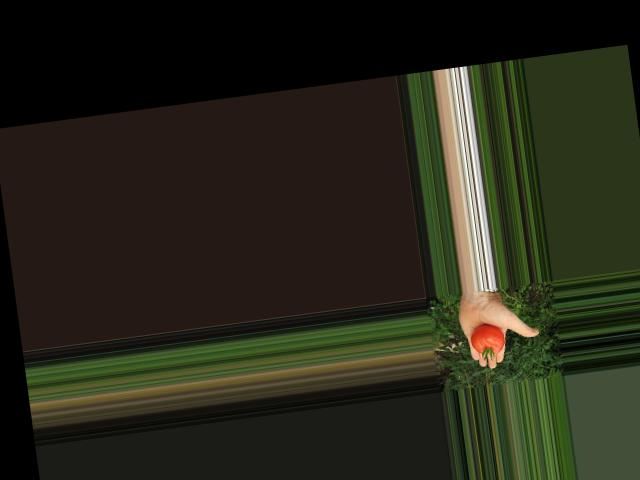tomato: (468, 322, 506, 356)
